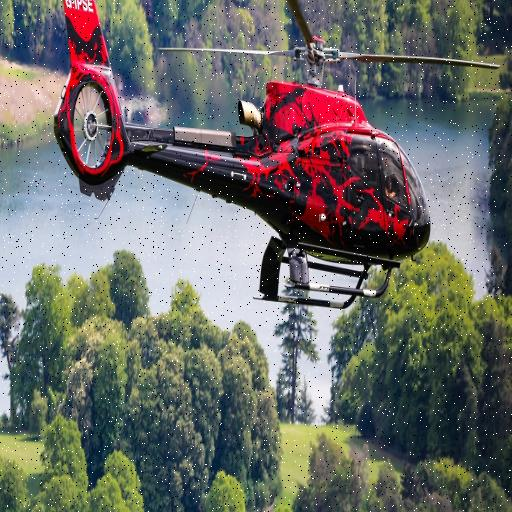helicopter: (53, 1, 505, 327)
